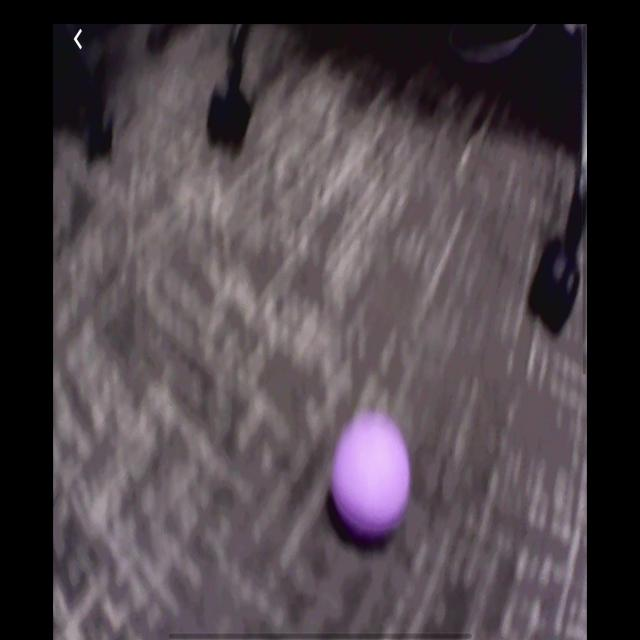ball: (333, 409, 412, 536)
